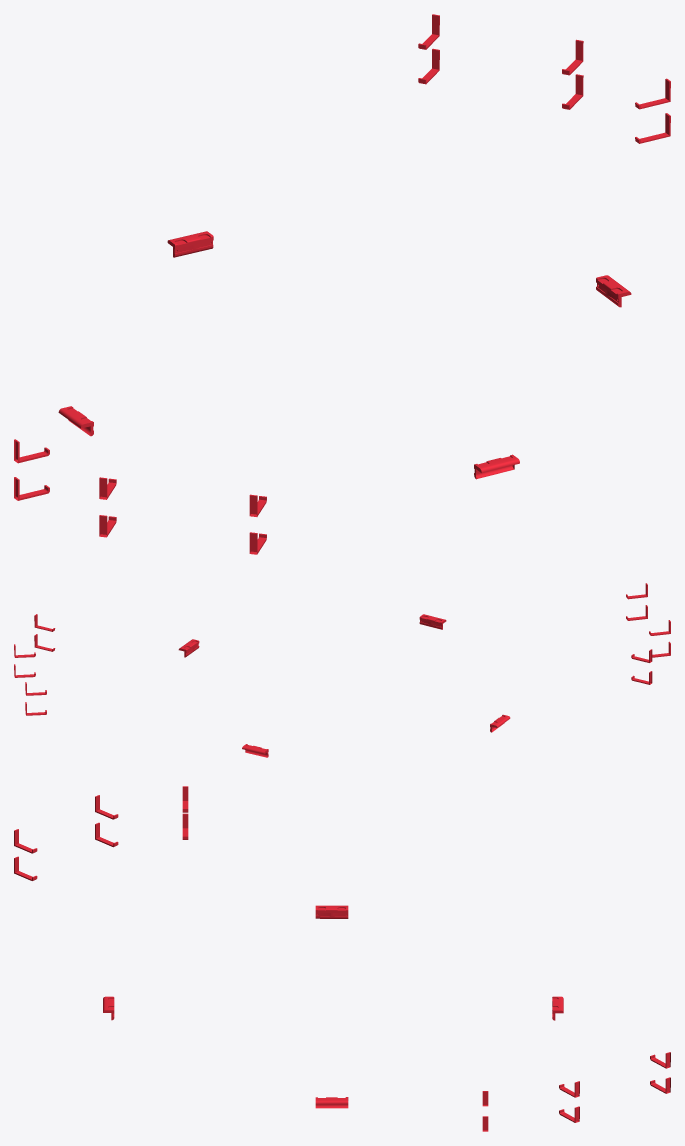
The model's file is detail_support.fbx.
3 renders of one model, top to bottom at view 1: azimuth 30°, elevation 25°; view 2: azimuth 150°, elevation 25°; view 3: azimuth 270°, elevation 25°, orthographic. The views are drawn at different scales.
Visible parts, largest first — view 1: detail_support; view 2: detail_support; view 3: detail_support.
Boxes of the visible parts, left/top/right/bottom form: detail_support: left=14, top=14, right=670, bottom=554; detail_support: left=14, top=583, right=670, bottom=757; detail_support: left=14, top=786, right=670, bottom=1131.
Bounding box in the file's own units: 274 × 31.39 × 248.
